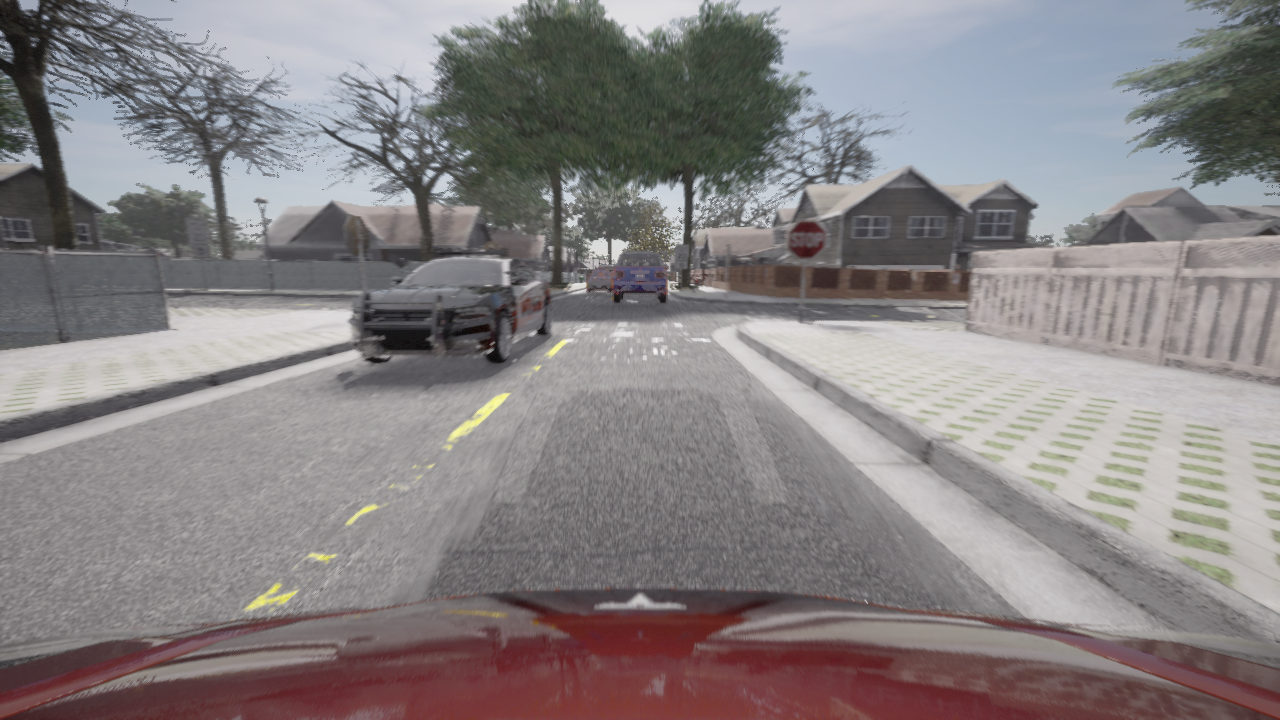cyclist: (0, 588, 1279, 719), (350, 246, 550, 363), (612, 253, 666, 304), (586, 270, 612, 292), (598, 265, 613, 276)
